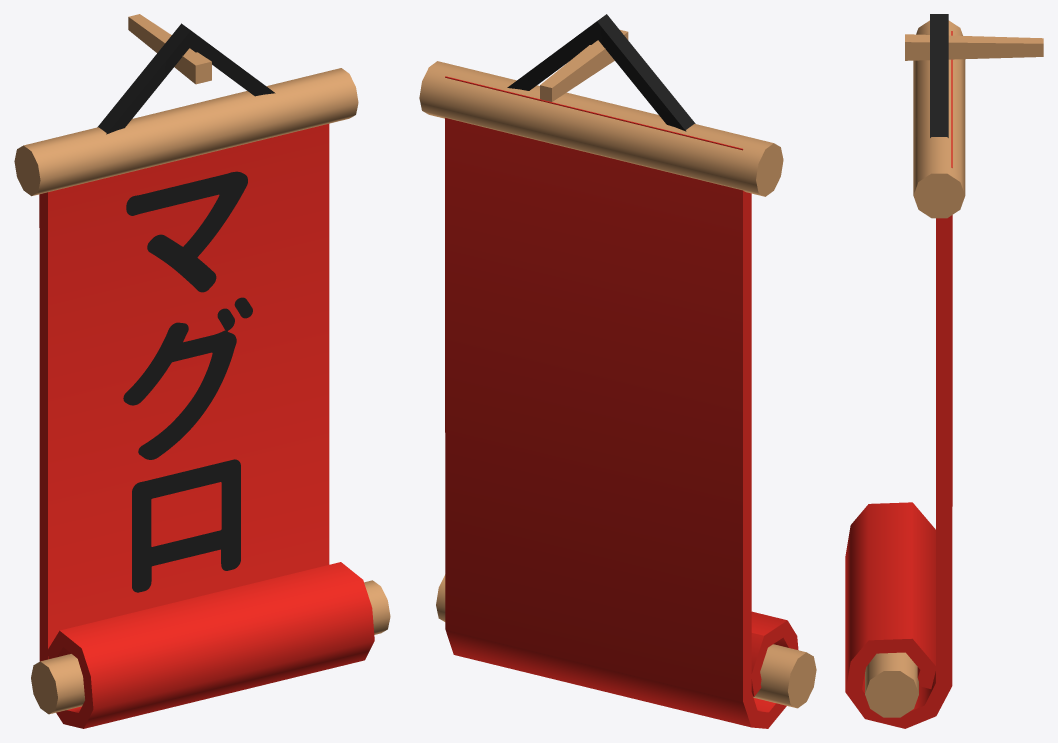
File: sign3.glb
The picture shows the model from 3 angles, left to right: view 1: azimuth 30°, elevation 25°; view 2: azimuth 150°, elevation 25°; view 3: azimuth 270°, elevation 25°; orthographic projection. The views are drawn at different scales.
Visible parts, largest first — view 1: Decoration_Sign_3; view 2: Decoration_Sign_3; view 3: Decoration_Sign_3.
Part boxes in pixels (left/top/right/bottom): Decoration_Sign_3: left=14, top=14, right=390, bottom=728; Decoration_Sign_3: left=419, top=14, right=816, bottom=728; Decoration_Sign_3: left=845, top=14, right=1043, bottom=728.
Size of the model in its own units: 1.67 by 3.12 by 0.8673.
Materials: 1 (1 with a texture image).
